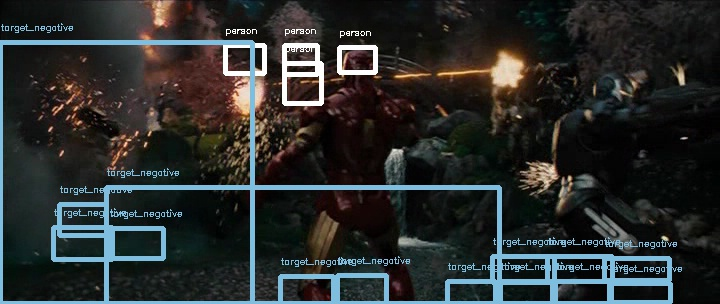person: (335, 48, 377, 90), (334, 48, 376, 90), (336, 48, 378, 90), (335, 47, 377, 89), (335, 49, 377, 91)
target_negative: (17, 170, 248, 240), (50, 25, 307, 55), (525, 203, 671, 250), (94, 42, 132, 222), (98, 169, 603, 178), (208, 266, 650, 273)
